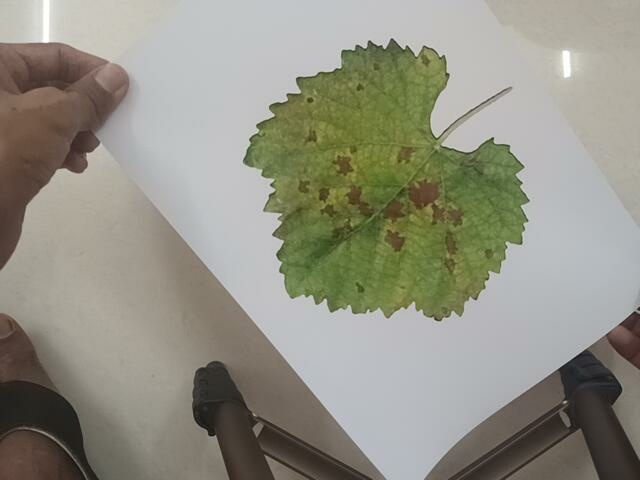Grape_Leaf_Vine_Disease: (228, 35, 575, 333)
